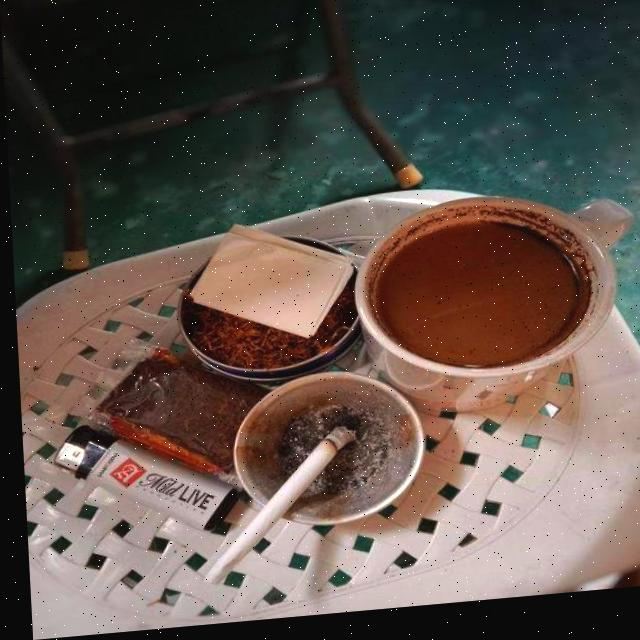cigarette: (193, 431, 354, 592)
